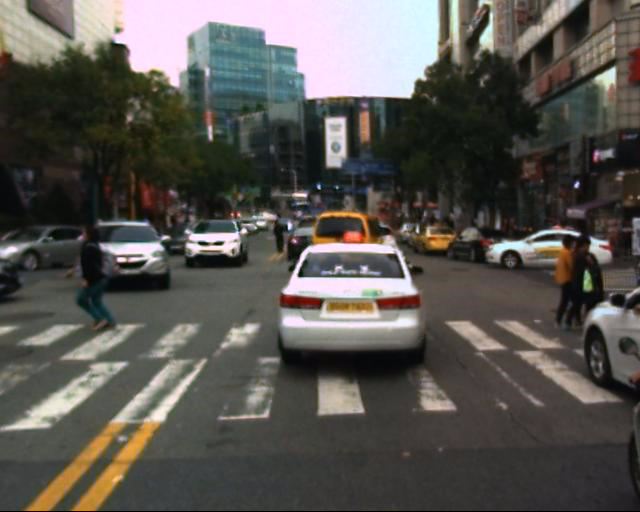person: (67, 219, 153, 337), (541, 232, 587, 337), (562, 224, 604, 338), (604, 212, 640, 265), (502, 207, 522, 249), (271, 214, 291, 255)
